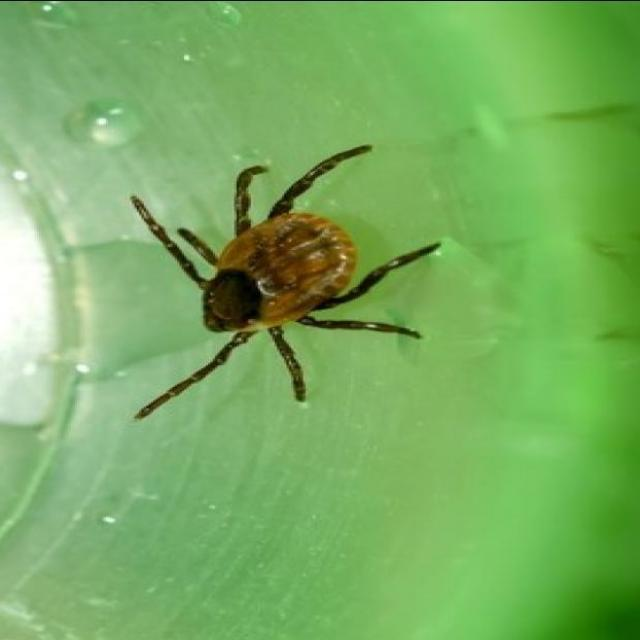Rhipicephalus Sanguineus-F: (132, 143, 441, 416)
